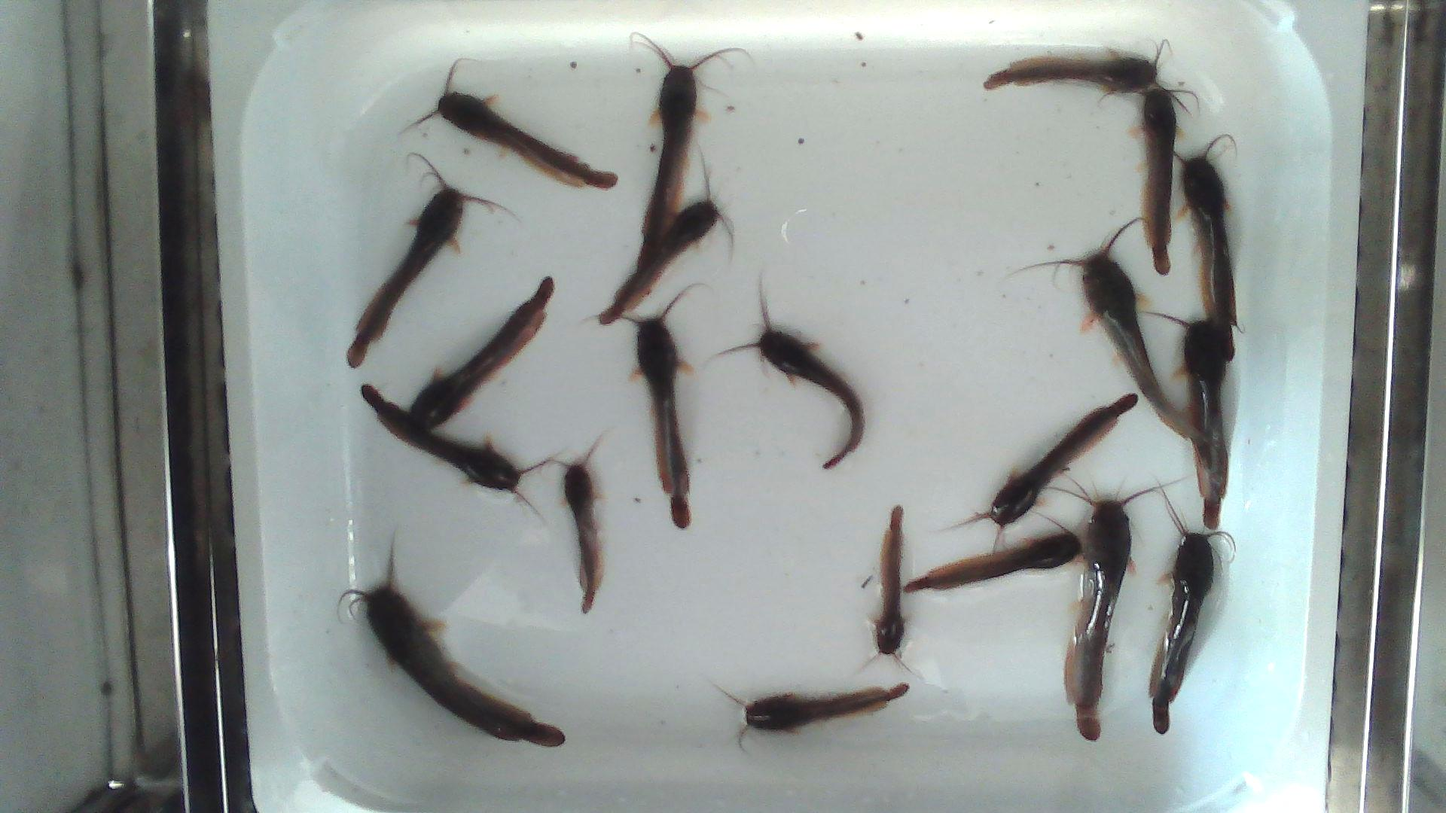lele: (340, 550, 565, 747), (1017, 219, 1206, 444), (626, 30, 751, 276), (360, 383, 562, 520), (1064, 484, 1170, 740), (413, 63, 616, 189), (596, 146, 734, 328), (734, 282, 865, 469), (412, 278, 555, 430), (349, 187, 465, 367), (1149, 495, 1234, 733), (987, 394, 1136, 525), (1145, 311, 1228, 530), (1176, 133, 1238, 364), (637, 317, 689, 528), (905, 530, 1080, 592), (744, 684, 908, 729), (984, 53, 1157, 92), (1142, 86, 1176, 274), (563, 458, 603, 613), (874, 507, 905, 653)
